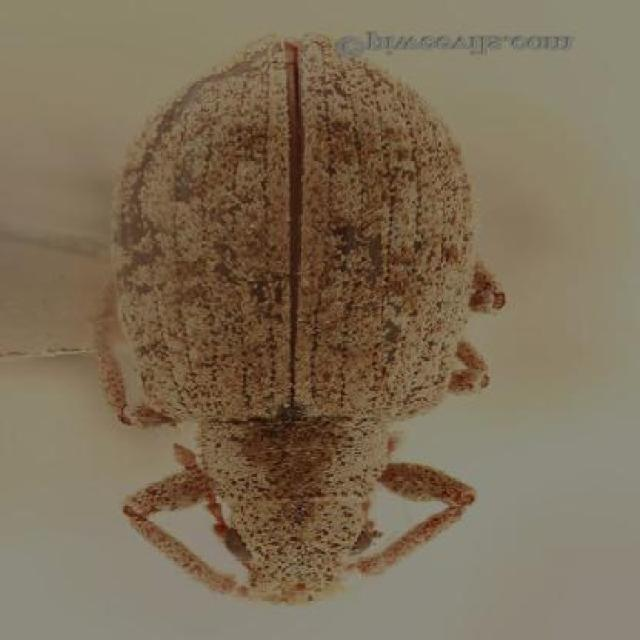rice-bug: (89, 32, 512, 610)
